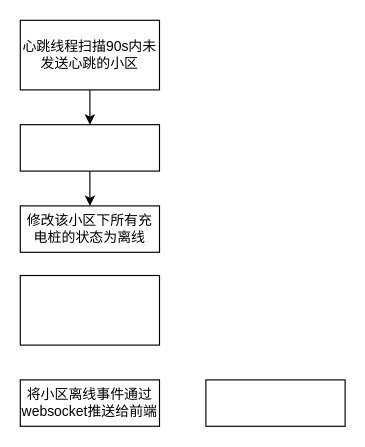
The diagram is 365 pixels wide and 447 high, and some of its shapes have lost their labels. Each missing label, with the box of its shape:
将小区所有桩对应chargerRealTimeData 集合的文档重置: (19, 274, 160, 345)
将小区状态置为离线: (19, 124, 160, 171)
